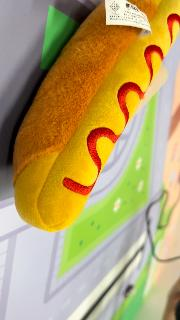hotdog: (12, 0, 180, 234)
